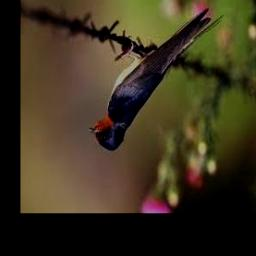Swallow: (89, 8, 224, 150)
